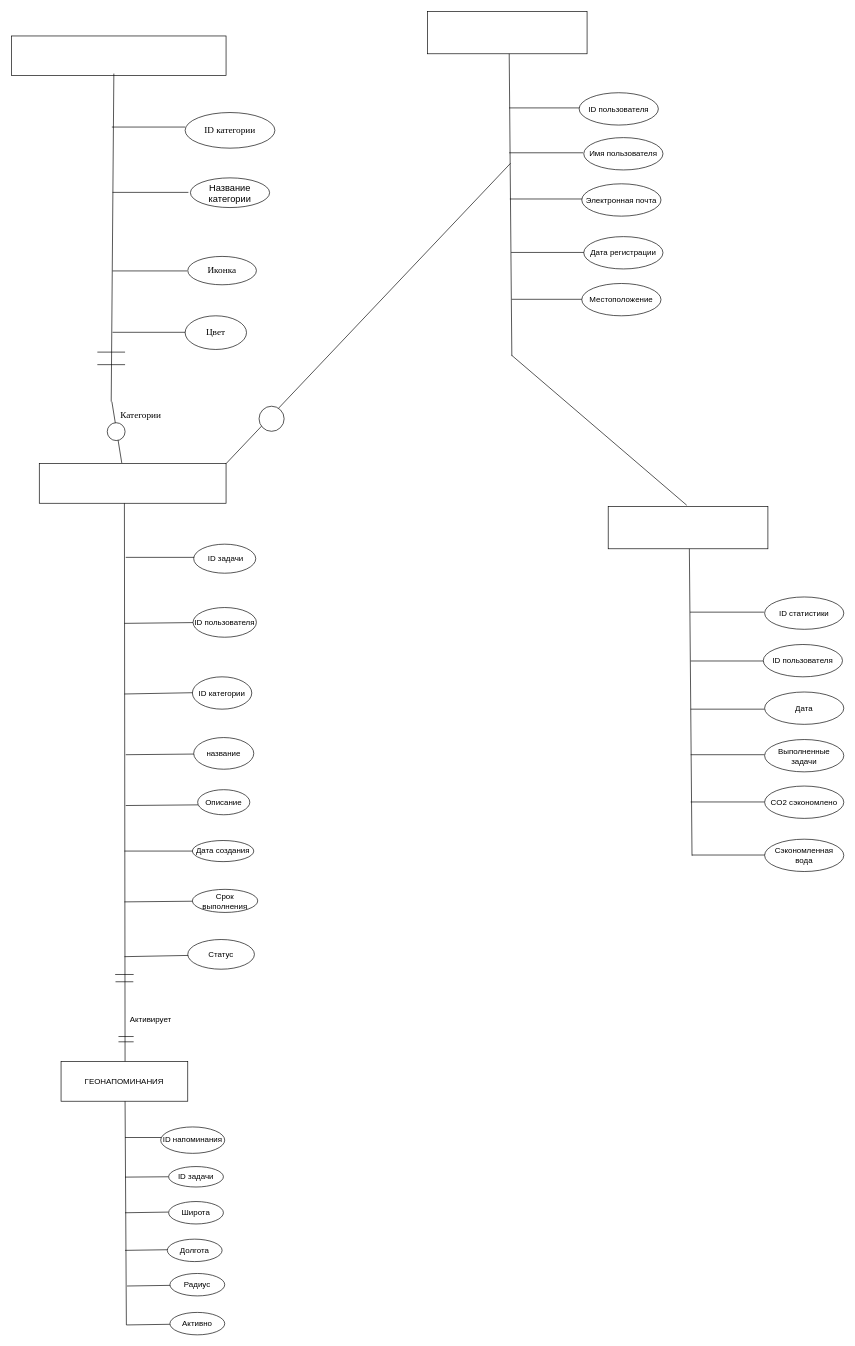
The diagram is 855 pixels wide and 1346 high, and some of its shapes have lost their labels. Here are the shapes that lost their labels. From the top down, the centre of each, then its label:
At (x=507, y=32): "ПОЛЬЗОВАТЕЛИ".
At (x=118, y=55): "КАТЕГОРИИ ЗАДАЧ".
At (x=132, y=483): "ЭКОЗАДАЧИ".
At (x=688, y=527): "ЭКОСТАТИСТИКА".
